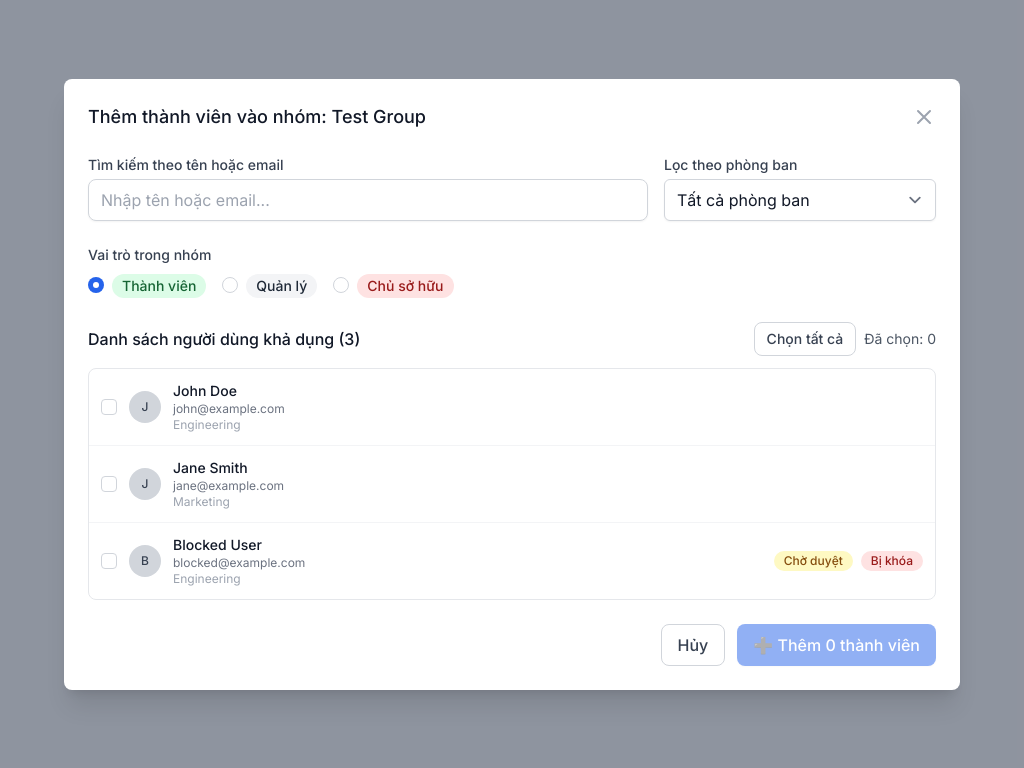
UserSearchModal › User Selection › should allow deselecting all users
The image size is (1024, 768).
Note: Select all first
Click the button "Chọn tất cả".
click(805, 338)  # box [754,322,856,356]
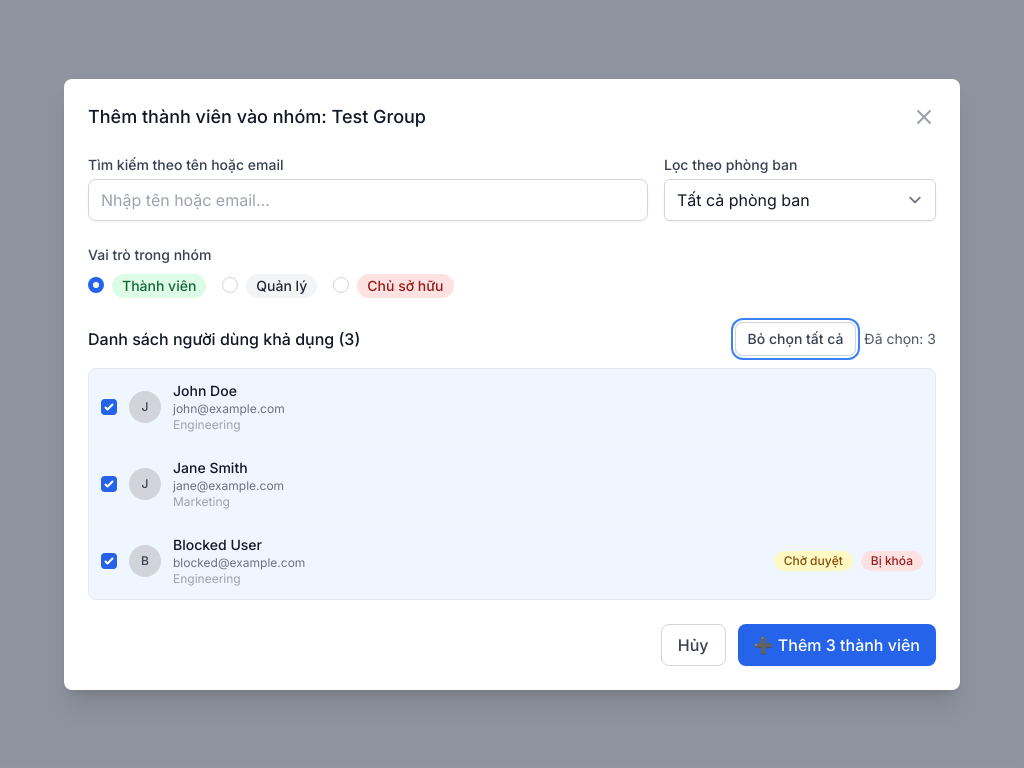
Expected: the text "Đã chọn: 3" is shown, [864,330,936,346]
Note: Then deselect all
Click the button "Bỏ chọn tất cả".
click(796, 338)  # box [735,322,856,356]
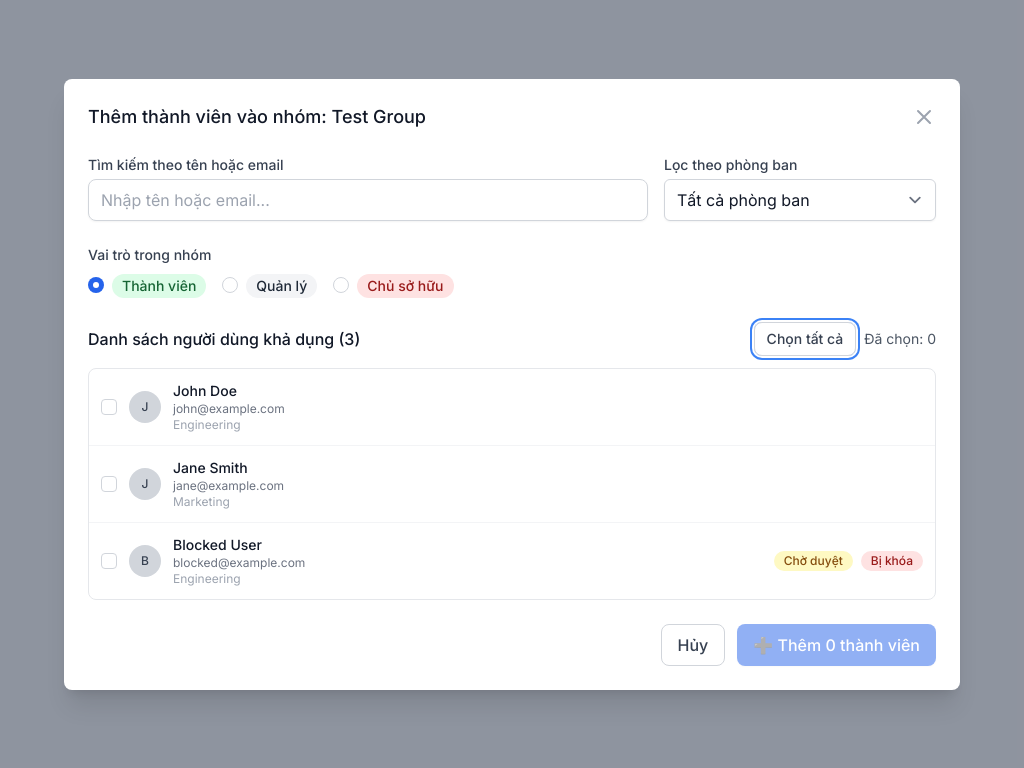
Expected: the text "Đã chọn: 0" is shown, [864,330,936,346]
